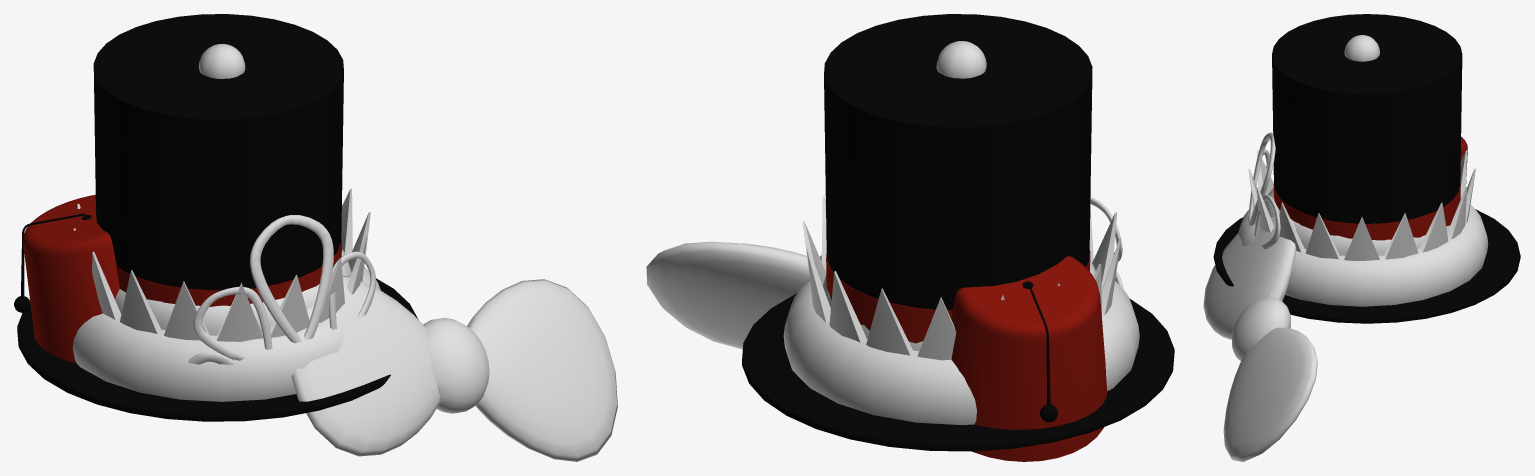
The model's file is Sombreros2.fbx.
3 views of the same model, side by side, from view 1: azimuth 30°, elevation 25°; view 2: azimuth 150°, elevation 25°; view 3: azimuth 270°, elevation 25° (orthographic). The views are drawn at different scales.
Parts seen in each view (by area): view 1: SombreroCopa, Lazo, Caca, Fez, Corona, Diadema, FiestaCumple; view 2: SombreroCopa, Fez, Caca, Lazo, Corona, FiestaCumple; view 3: SombreroCopa, Lazo, Caca, Corona, Diadema, FiestaCumple.
Part boxes in pixels (x1,y1,x2,y2): SombreroCopa: [17, 14, 418, 421]; Lazo: [291, 275, 617, 461]; Caca: [72, 249, 380, 401]; Fez: [14, 195, 119, 363]; Corona: [73, 188, 370, 341]; Diadema: [188, 215, 376, 365]; FiestaCumple: [198, 43, 245, 78]; SombreroCopa: [742, 14, 1174, 451]; Fez: [951, 256, 1107, 461]; Caca: [783, 261, 1139, 425]; Lazo: [646, 241, 821, 349]; Corona: [802, 196, 1121, 360]; FiestaCumple: [936, 41, 986, 78]; SombreroCopa: [1213, 14, 1520, 323]; Lazo: [1203, 217, 1317, 461]; Caca: [1237, 188, 1488, 306]; Corona: [1248, 150, 1475, 260]; Diadema: [1248, 132, 1280, 249]; FiestaCumple: [1344, 35, 1379, 61].
Bounding box in the file's own units: 0.5573 × 0.4324 × 0.3929.
